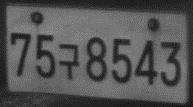3: (158, 40, 181, 87)
4: (134, 40, 158, 84)
5: (110, 37, 132, 84), (34, 33, 55, 79)
7: (8, 31, 32, 78)
8: (85, 36, 108, 83)
구: (57, 42, 81, 81)
